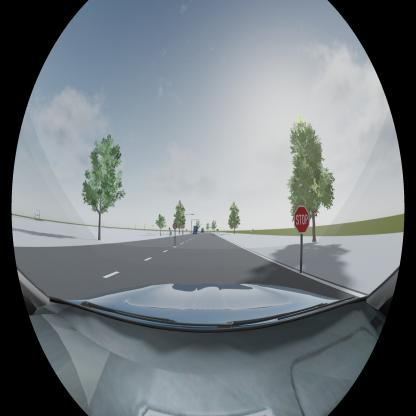Speed Limit 20: (173, 222, 177, 229)
Stop: (294, 206, 309, 233)
